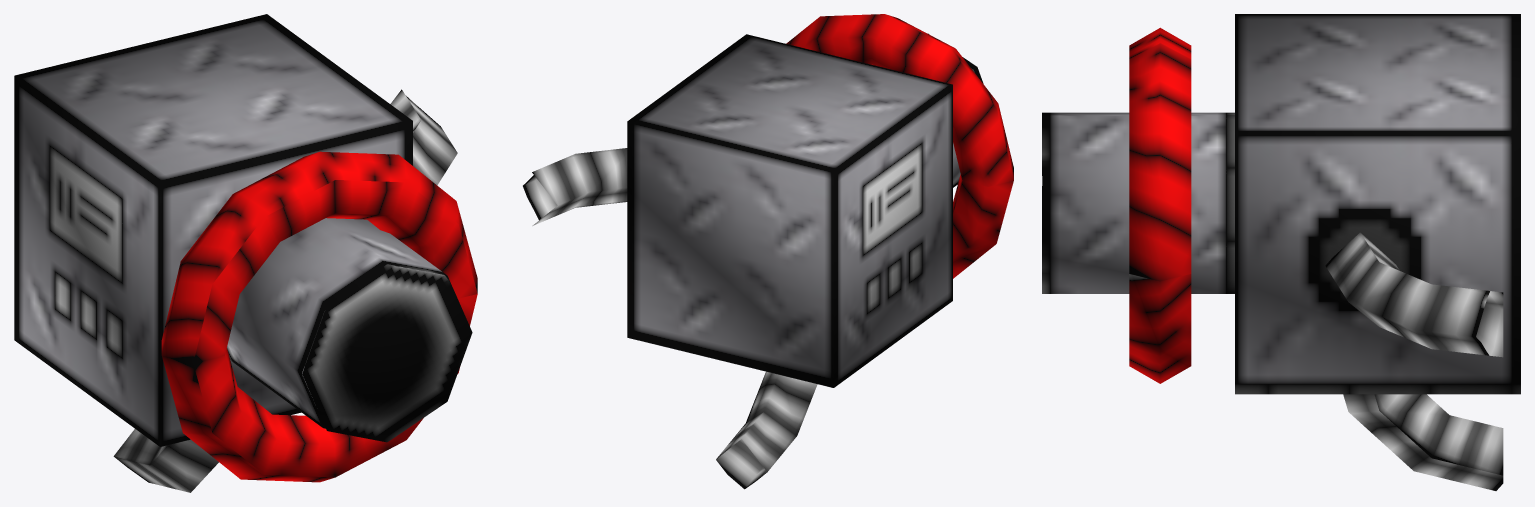
Rendered from turbina.fbx.
The picture shows the model from 3 angles, left to right: view 1: azimuth 30°, elevation 25°; view 2: azimuth 150°, elevation 25°; view 3: azimuth 270°, elevation 25°; orthographic projection. The views are drawn at different scales.
Visible parts, largest first — view 1: turbina, head; view 2: turbina, head; view 3: turbina, head.
Boxes of the visible parts, x1,y1,x2,y2 form: turbina: [14, 14, 472, 492]; head: [161, 151, 477, 482]; turbina: [523, 33, 983, 489]; head: [786, 14, 1013, 278]; turbina: [1042, 14, 1520, 490]; head: [1129, 27, 1191, 383].
Bounding box in the file's own units: 3.53 × 3.46 × 3.35.
1 material, 1 textured.
